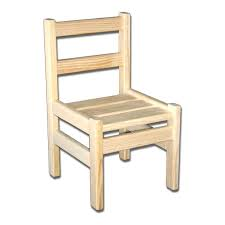tiyarina: (35, 9, 186, 212)
